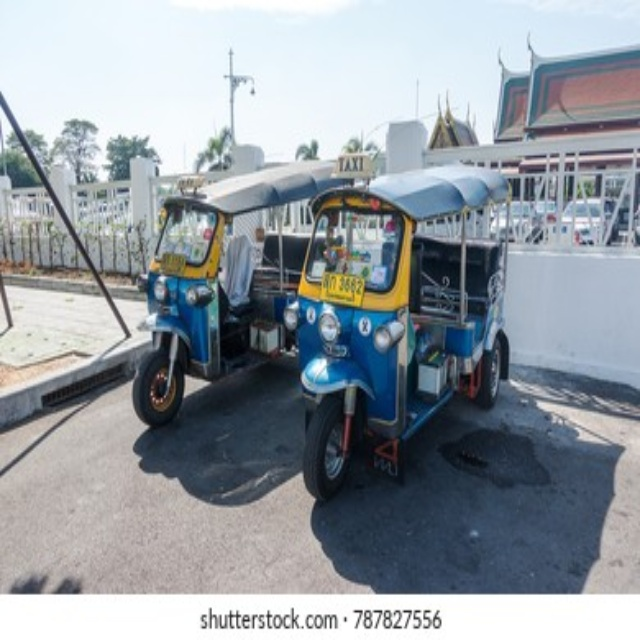Motorcycle: (282, 165, 510, 503), (131, 160, 338, 425)
